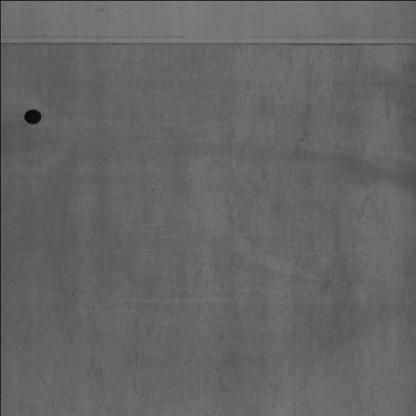punching_hole: (20, 103, 46, 128)
welding_line: (0, 32, 415, 53)
